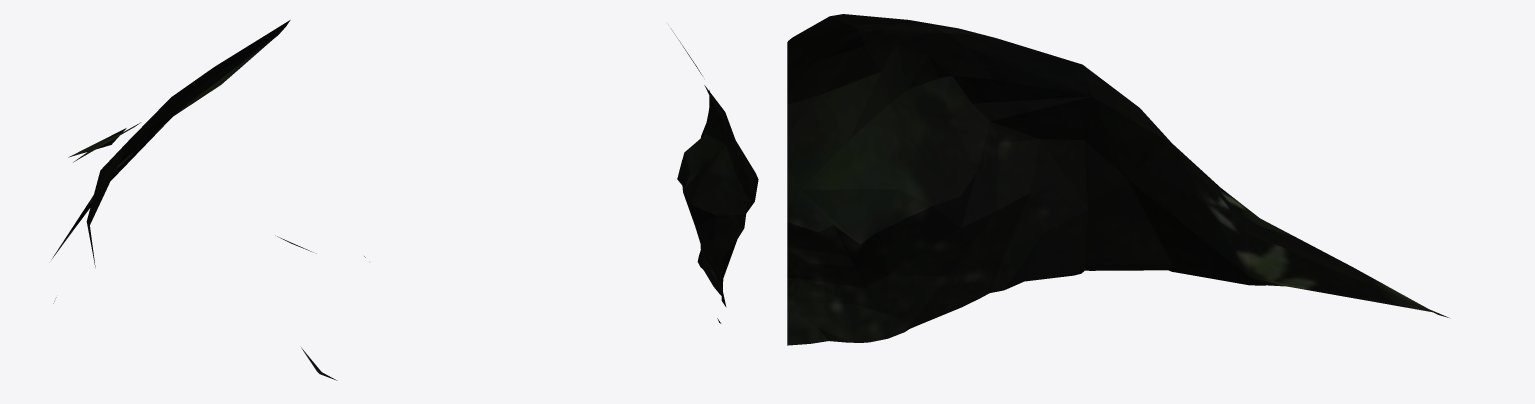
The picture shows the model from 3 angles, left to right: view 1: azimuth 30°, elevation 25°; view 2: azimuth 150°, elevation 25°; view 3: azimuth 270°, elevation 25°; orthographic projection. The views are drawn at different scales.
Bounding box in the file's own units: 0.5647 × 0.8149 × 1.44.
Materials: 1 (1 with a texture image).
